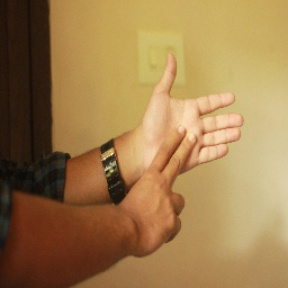N: (130, 55, 245, 237)
